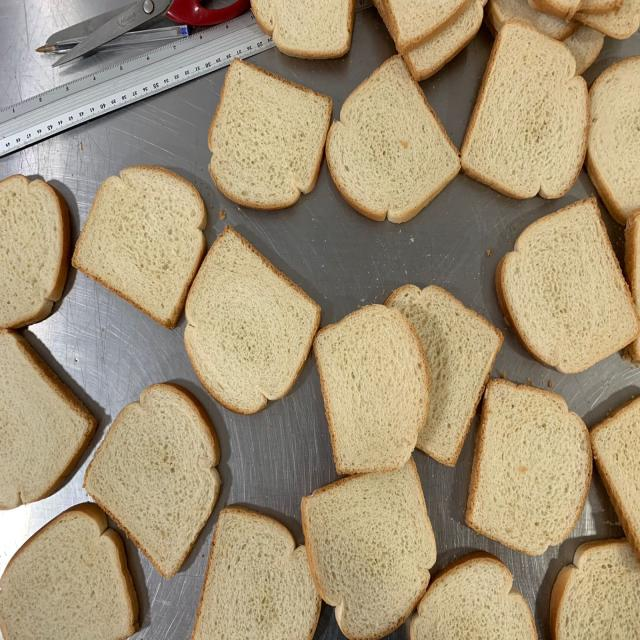pan: (84, 383, 220, 578), (184, 227, 322, 414), (495, 199, 639, 375), (303, 459, 437, 640), (464, 380, 596, 558), (461, 21, 590, 203), (72, 164, 208, 331), (326, 56, 460, 223), (314, 303, 430, 474), (0, 501, 140, 640), (209, 58, 331, 210)
